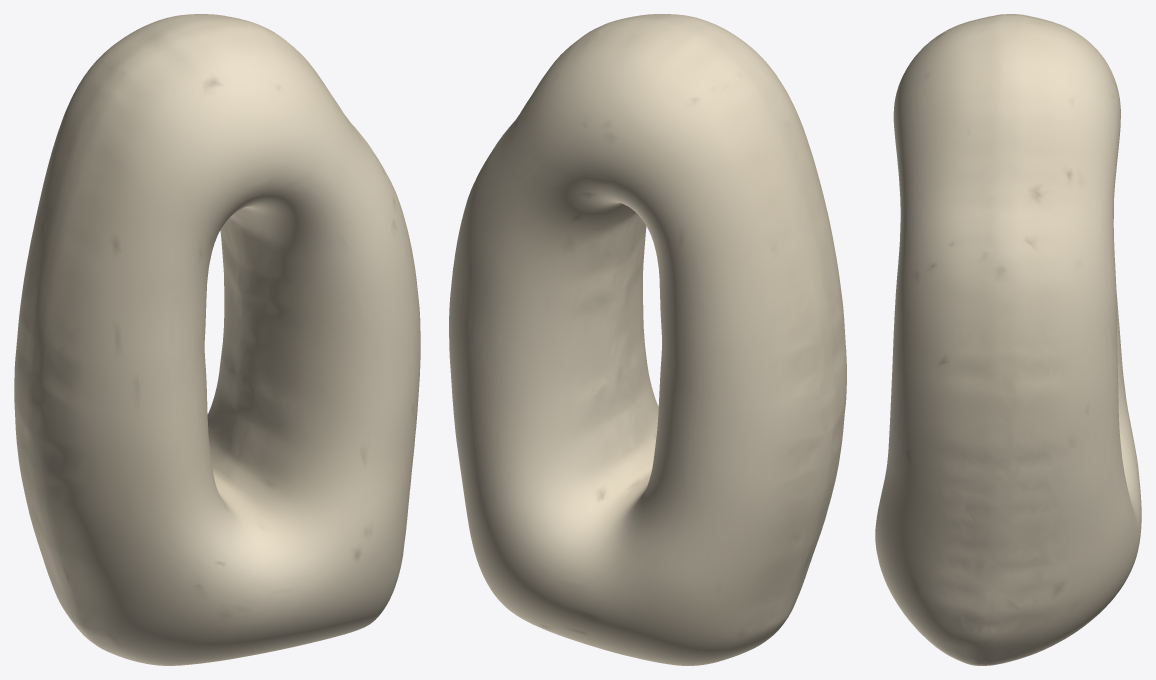
The model's file is rook-white-hd.glb.
The picture shows the model from 3 angles, left to right: view 1: azimuth 30°, elevation 25°; view 2: azimuth 150°, elevation 25°; view 3: azimuth 270°, elevation 25°; orthographic projection. The views are drawn at different scales.
Parts seen in each view (by area): view 1: Lumen vez bila; view 2: Lumen vez bila; view 3: Lumen vez bila.
Part boxes in pixels (bbox=[...]): Lumen vez bila: bbox=[14, 14, 420, 665]; Lumen vez bila: bbox=[449, 14, 846, 665]; Lumen vez bila: bbox=[875, 14, 1141, 665].
Size of the model in its own units: 0.574 by 0.9299 by 0.3901.
